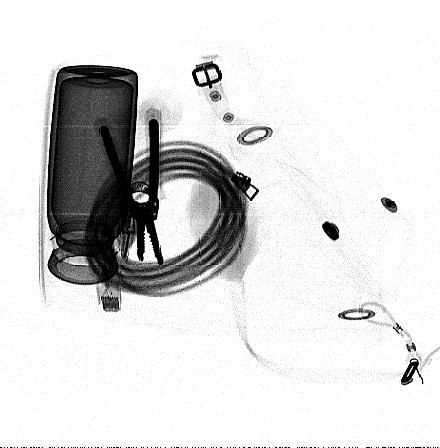Pliers: (98, 117, 165, 265)
